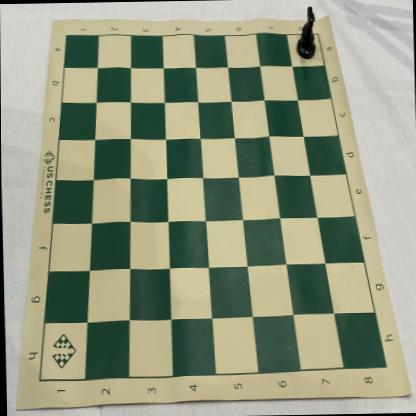black-knight: (295, 6, 317, 60)
